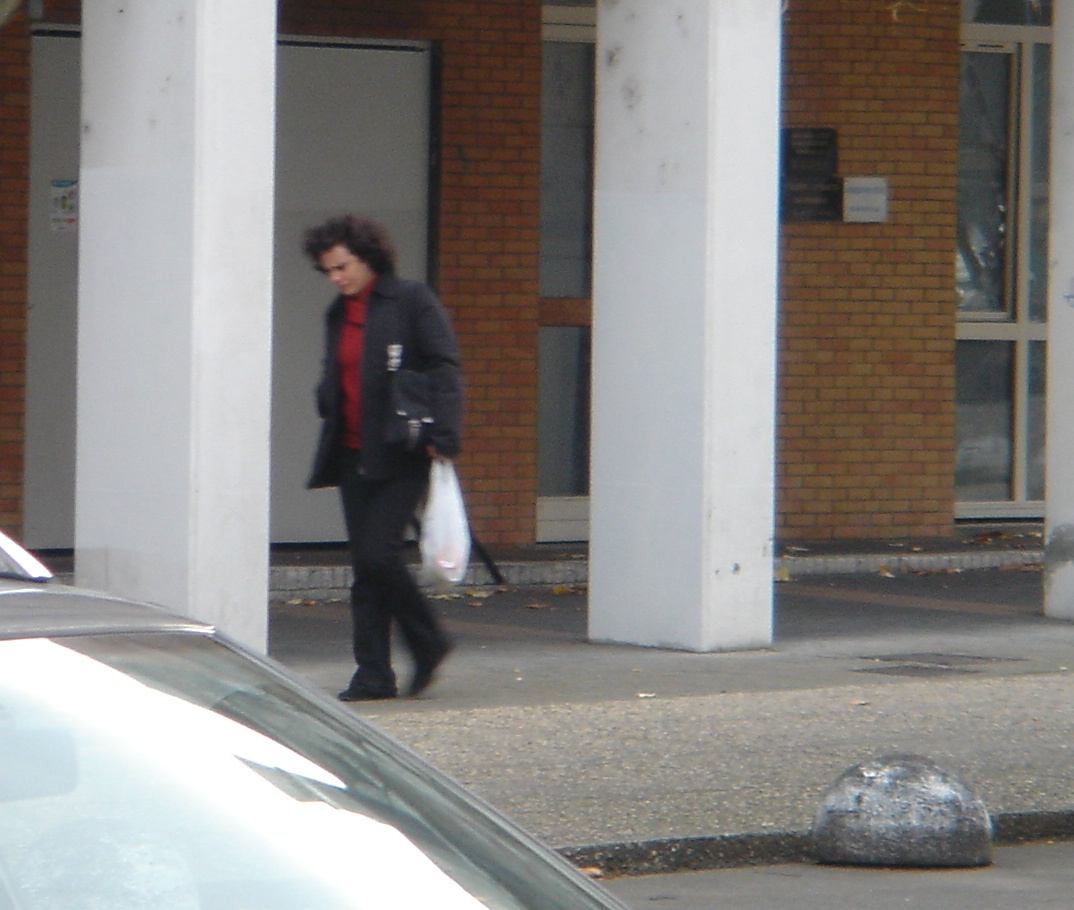person: (304, 222, 461, 696)
